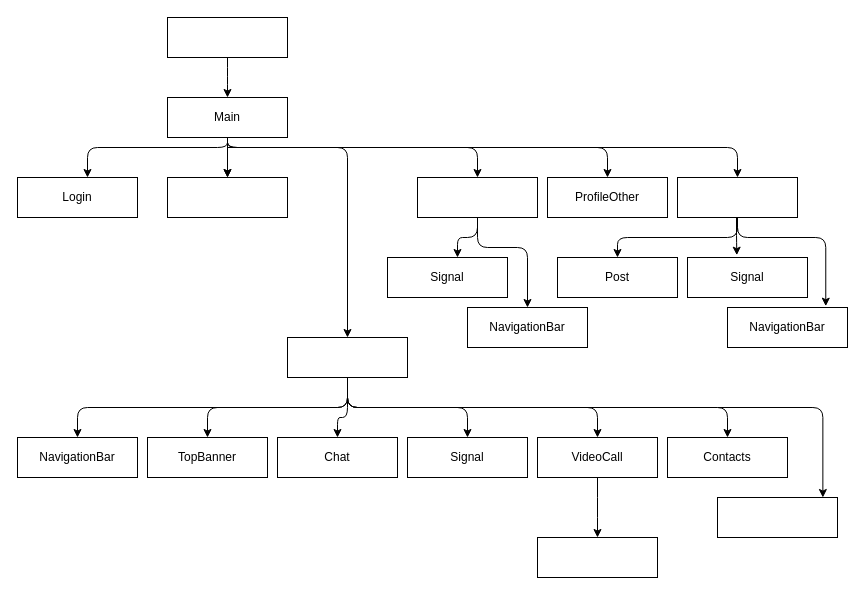
Image size: 865x595. Some labels were removed from this diagram. Here are the shapes that lost their labels. From the top down, the centre of each, then its label:
At point (227, 37): "APP".
At point (227, 197): "Register".
At point (477, 197): "Profile".
At point (737, 197): "Story".
At point (347, 357): "Home".
At point (777, 517): "Strangers".
At point (597, 557): "Timer".
